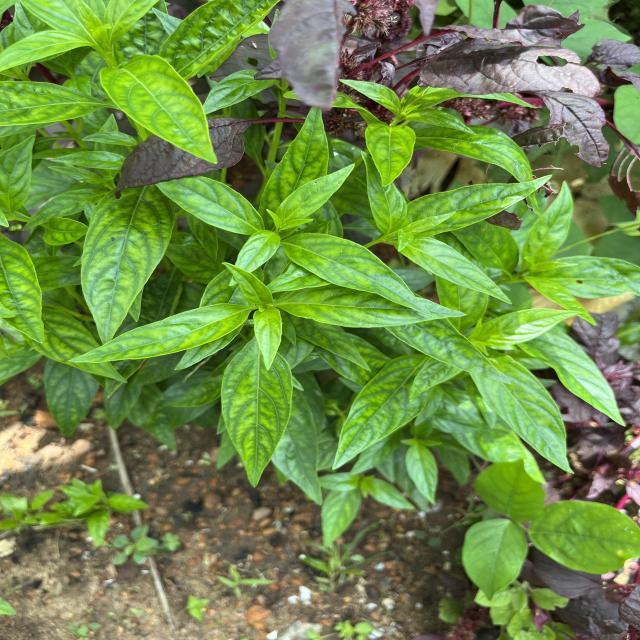Andrographis paniculata: (78, 186, 176, 344), (99, 53, 220, 168), (279, 232, 427, 317), (330, 352, 432, 472), (68, 302, 252, 366), (481, 355, 576, 477), (218, 342, 296, 487), (414, 123, 542, 209), (407, 174, 553, 237), (403, 235, 517, 308), (280, 290, 470, 328), (262, 108, 330, 214), (154, 175, 266, 235), (0, 232, 48, 346), (274, 163, 356, 224), (519, 179, 573, 266), (476, 308, 584, 348), (364, 120, 417, 189), (319, 490, 362, 548), (404, 444, 440, 506)
